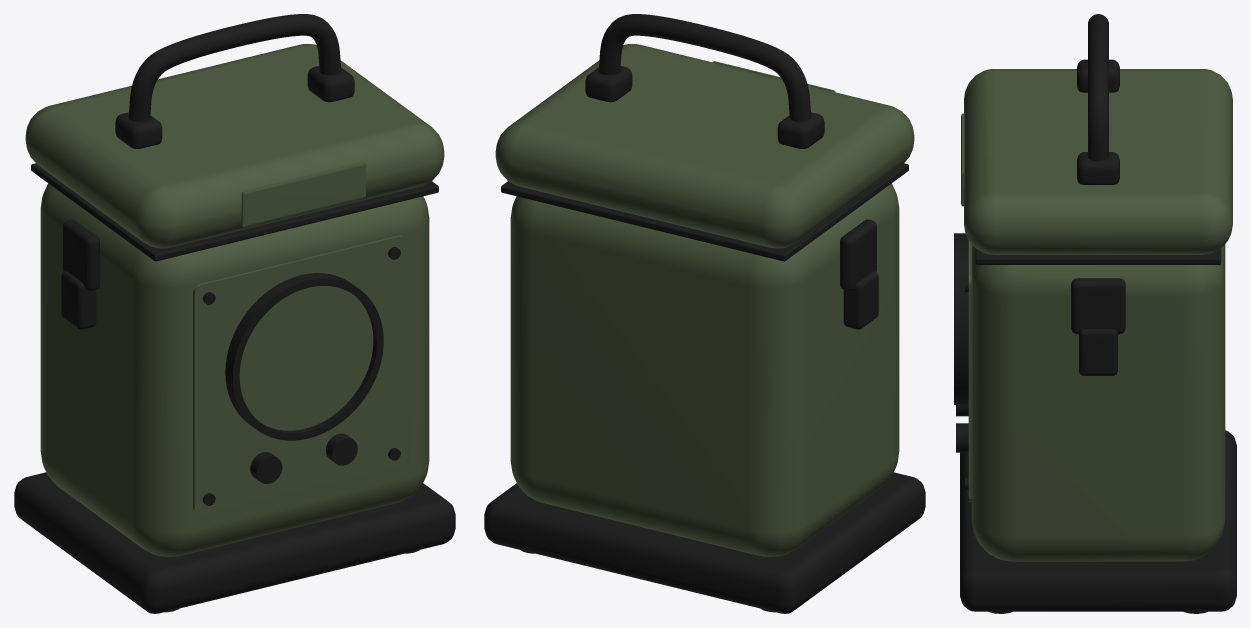
Rendered from SRZ_ArtCont_2.fbx.
The picture shows the model from 3 angles, left to right: view 1: azimuth 30°, elevation 25°; view 2: azimuth 150°, elevation 25°; view 3: azimuth 270°, elevation 25°; orthographic projection.
Parts seen in each view (by area): view 1: SRZ_ArtCont_2; view 2: SRZ_ArtCont_2; view 3: SRZ_ArtCont_2.
Part boxes in pixels (bbox=[...]): SRZ_ArtCont_2: bbox=[14, 14, 455, 613]; SRZ_ArtCont_2: bbox=[484, 14, 925, 613]; SRZ_ArtCont_2: bbox=[954, 14, 1236, 613].
Size of what is drawn, in the model's own units: 19.3 by 28.55 by 14.5.
